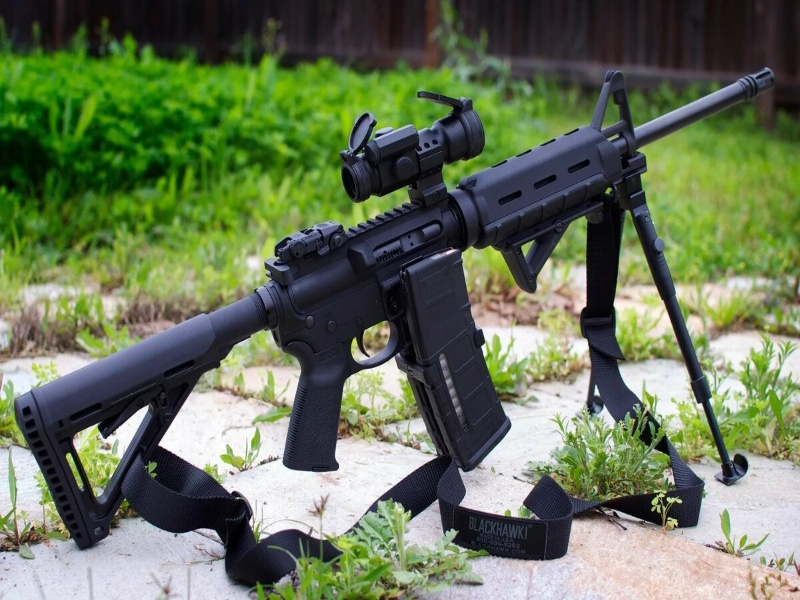weapon: (14, 66, 775, 551)
